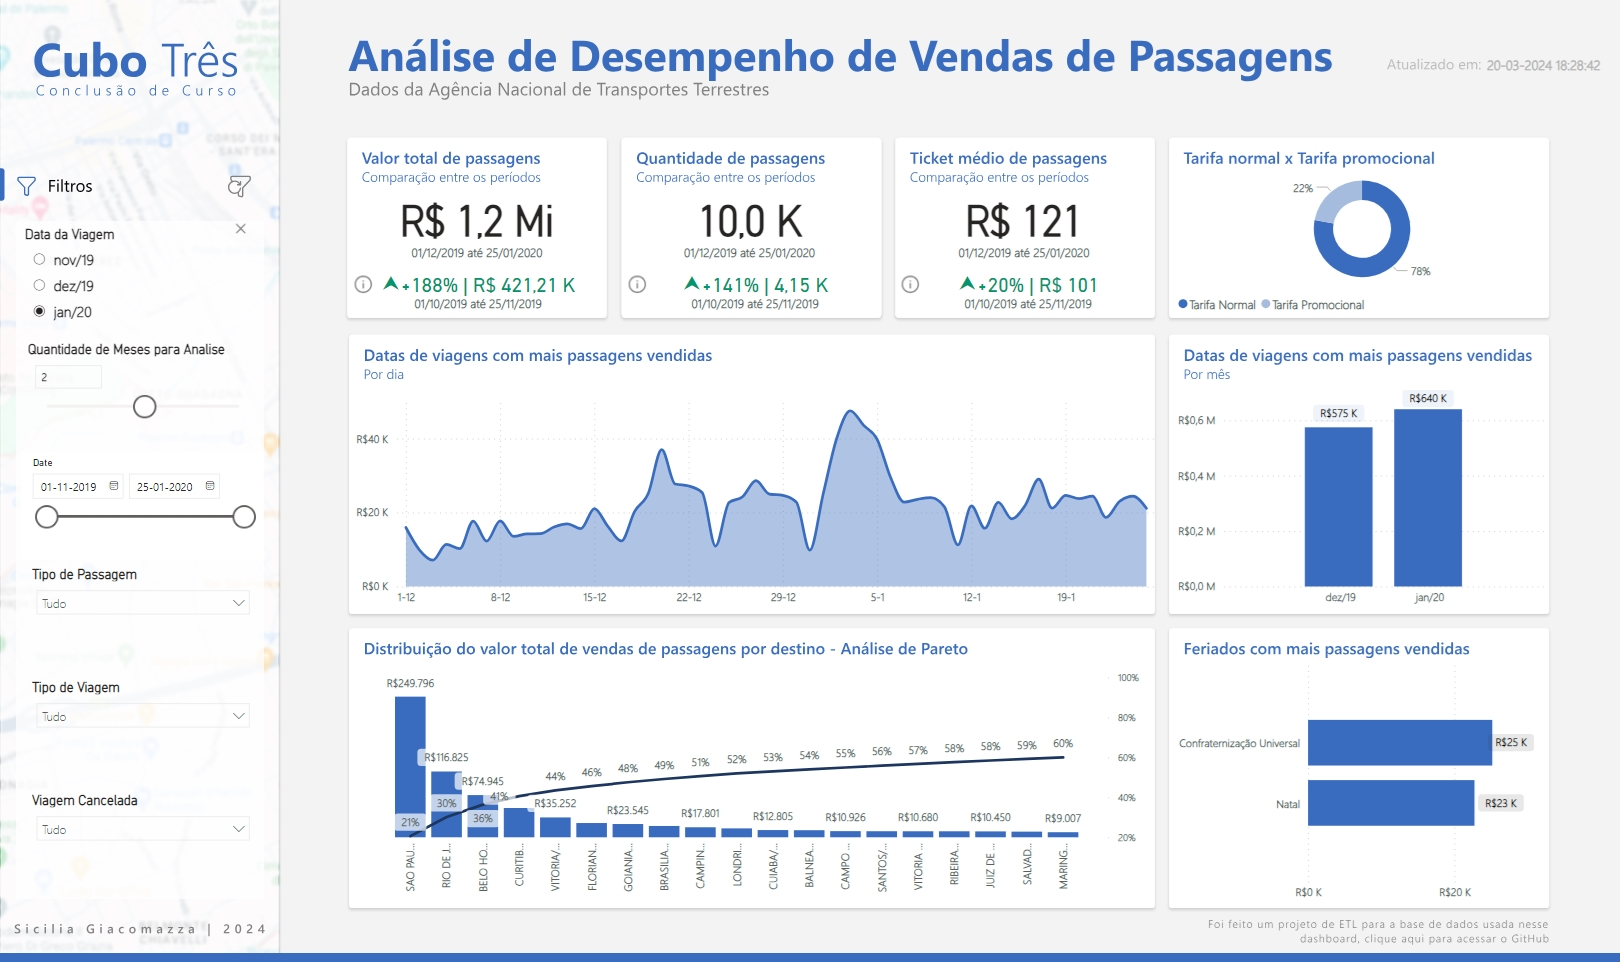

The page's visual inventory and layout, read from the dashboard file:
{"tool":"powerbi","page":{"name":"Visão Geral","canvas":[1800,1080],"ordinal":0},"visuals":[{"type":"card","fields":{"Values":["Medidas.Blank"]},"box":[390,216.2,280,82.5],"z":0},{"type":"card","fields":{"Values":["Medidas.Blank"]},"box":[391.2,298.8,280,50],"z":1000},{"type":"columnChart","title":"Valor Total de Passagens por Mês","fields":{"Category":["D_Calendario.Mês e Ano Abrv"],"Y":["Medidas.Valor Total Ultimos Meses Atual"]},"box":[1303.4,422.1,419.6,259.4],"z":2000},{"type":"clusteredBarChart","fields":{"Category":["Viagens.feriados"],"Y":["Medidas.Valor Total Intervalo de Datas Periodo Atual"]},"box":[1302.9,727.1,420,282.9],"z":3000},{"type":"card","fields":{"Values":["Medidas.Blank"]},"box":[692.5,216.2,281.2,82.5],"z":4000},{"type":"card","fields":{"Values":["Medidas.Blank"]},"box":[698.8,298.8,280,50],"z":5000},{"type":"card","fields":{"Values":["Medidas.Blank"]},"box":[997.5,216.2,280,82.5],"z":6000},{"type":"card","fields":{"Values":["Medidas.Blank"]},"box":[1002.5,298.8,280,50],"z":7000},{"type":"actionButton","box":[1.2,185,122.5,40],"z":8000},{"type":"actionButton","box":[235,185,56.2,40],"z":9000},{"type":"areaChart","fields":{"Y":["Medidas.Valor Total Ultimos Meses Atual"],"Category":["D_Calendario.Date"]},"box":[389.8,432,898.8,249.5],"z":10000},{"type":"lineClusteredColumnComboChart","fields":{"Y2":["Medidas 2.Pareto Viagens"],"Category":["Viagens.destino_viagem"],"Y":["Medidas.Valor Total Intervalo de Datas Periodo Atual"]},"box":[400,738.6,874.3,271.4],"z":11000},{"type":"donutChart","fields":{"Category":["Viagens.tipo_gratuidade"],"Y":["Medidas.Valor Total Intervalo de Datas Periodo Atual"]},"box":[1302.9,181.4,420,175.7],"z":12000},{"type":"card","fields":{"Values":["Min(Viagens.data_ingestao)"]},"box":[1634.3,54.3,161.4,40],"z":13000},{"type":"actionButton","box":[387.5,300.3,32.7,31.8],"z":14000},{"type":"actionButton","box":[692,300.3,32.7,31.8],"z":15000},{"type":"actionButton","box":[995.7,300.3,32.7,31.8],"z":16000},{"type":"actionButton","box":[388.8,83.8,476.2,37.5],"z":17000},{"type":"actionButton","box":[1.2,1010.5,306.6,37.2],"z":19000},{"type":"actionButton","box":[1303.4,1010.5,419.6,49.7],"z":20000},{"type":"shape","box":[402.5,995,857.5,12.5],"z":21000}]}

Visuals, with their boxes on the page's 1800x1080 design canvas (x1, y1, x2, y2). These are canvas units, not pixel positions in the 1620x962 screenshot, which may show the page scaled, cropped or inside an application window:
card - Medidas.Blank: [left=390, top=216, right=670, bottom=299]
card - Medidas.Blank: [left=391, top=299, right=671, bottom=349]
"Valor Total de Passagens por Mês" columnChart: [left=1303, top=422, right=1723, bottom=682]
clusteredBarChart - Viagens.feriados x Medidas.Valor Total Intervalo de Datas Periodo Atual: [left=1303, top=727, right=1723, bottom=1010]
card - Medidas.Blank: [left=692, top=216, right=974, bottom=299]
card - Medidas.Blank: [left=699, top=299, right=979, bottom=349]
card - Medidas.Blank: [left=998, top=216, right=1278, bottom=299]
card - Medidas.Blank: [left=1002, top=299, right=1282, bottom=349]
actionButton: [left=1, top=185, right=124, bottom=225]
actionButton: [left=235, top=185, right=291, bottom=225]
areaChart - Medidas.Valor Total Ultimos Meses Atual x D_Calendario.Date: [left=390, top=432, right=1289, bottom=682]
lineClusteredColumnComboChart - Medidas 2.Pareto Viagens x Viagens.destino_viagem: [left=400, top=739, right=1274, bottom=1010]
donutChart - Viagens.tipo_gratuidade x Medidas.Valor Total Intervalo de Datas Periodo Atual: [left=1303, top=181, right=1723, bottom=357]
card - Min(Viagens.data_ingestao): [left=1634, top=54, right=1796, bottom=94]
actionButton: [left=388, top=300, right=420, bottom=332]
actionButton: [left=692, top=300, right=725, bottom=332]
actionButton: [left=996, top=300, right=1028, bottom=332]
actionButton: [left=389, top=84, right=865, bottom=121]
actionButton: [left=1, top=1010, right=308, bottom=1048]
actionButton: [left=1303, top=1010, right=1723, bottom=1060]
shape: [left=402, top=995, right=1260, bottom=1008]
